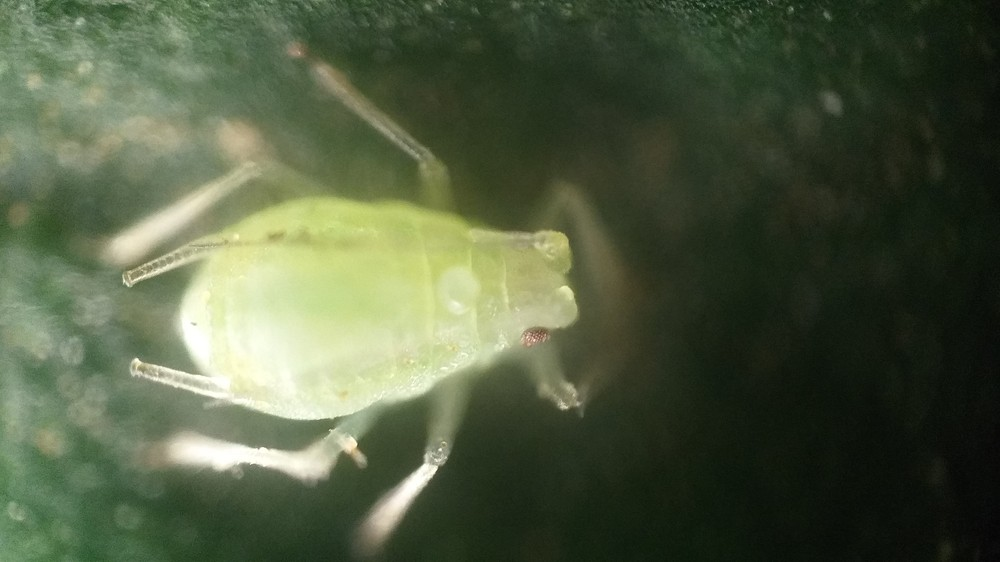Pulgon: (98, 59, 672, 543)
